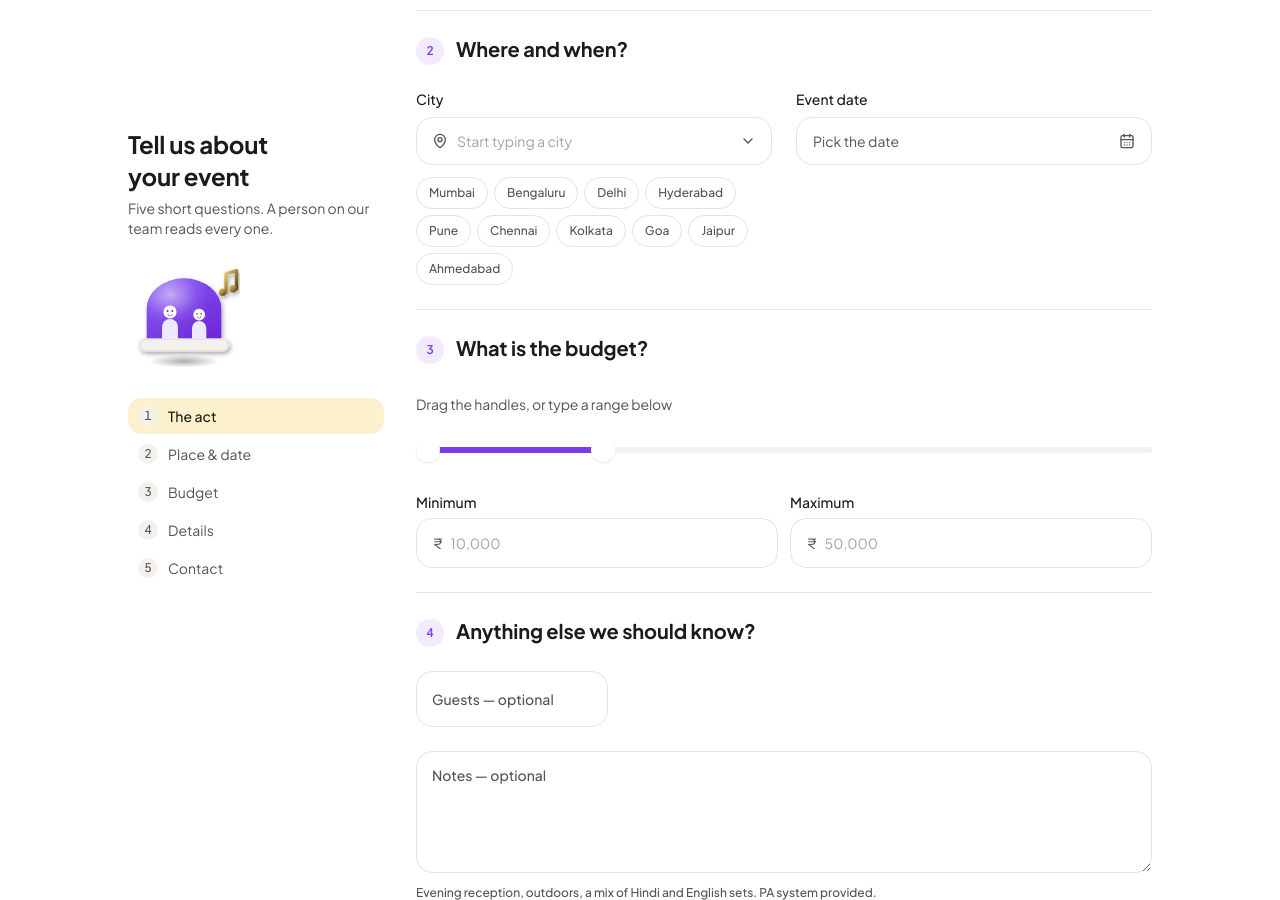
Scenario: the budget slider › pushes the other thumb rather than stopping dead when they cross
This screenshot has width=1280, height=900.
(page scrolled)
Step 1. Set the 2nd slider named "Maximum budget" to "200000" → {"x": 565, "y": 450}, box 416,428 -> 1152,472
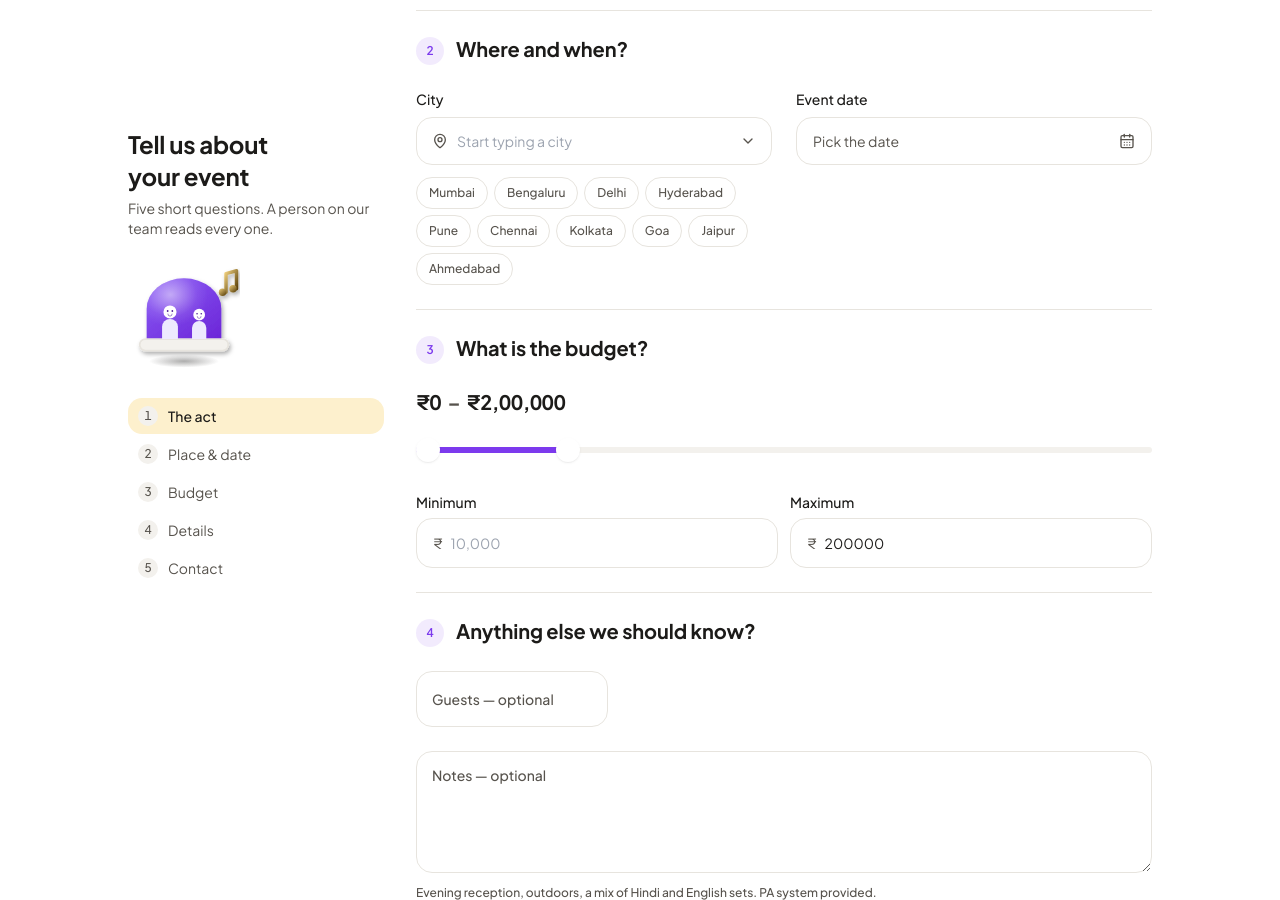
Step 2. Set the 1st slider named "Minimum budget" to "400000" → {"x": 710, "y": 450}, box 416,428 -> 1152,472
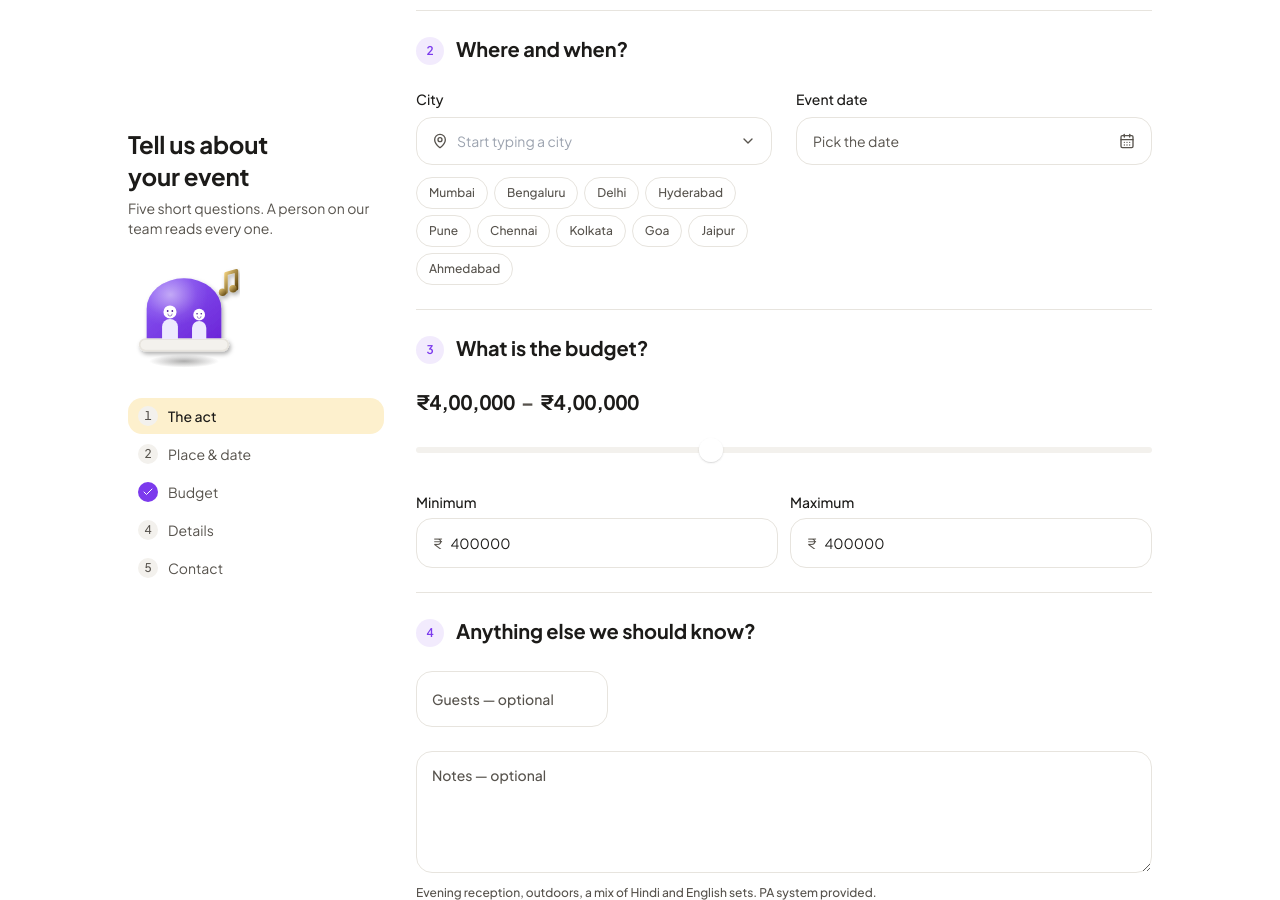
Result: the field labelled "Minimum" holds "400000" at 450,519 -> 761,567
Result: the field labelled "Maximum" holds "400000" at 824,519 -> 1135,567
